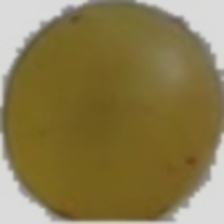grapes: (50, 15, 219, 176)
